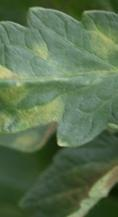Tomato mold leaf: (0, 4, 118, 156)
